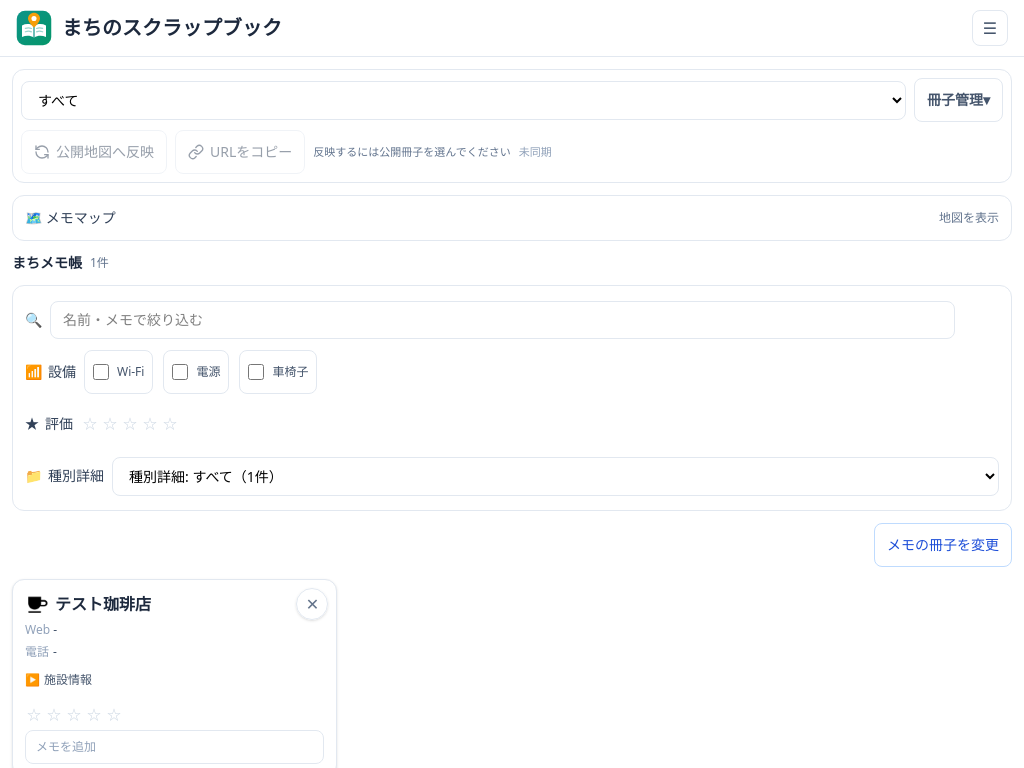
ヘッダーメニュー全消去 → メモ帳タブ即座に0件 › 2段階確認で実行すると、MemochoSection が空状態を表示し localStorage も空になる
Expected: the heading "テスト珈琲店" is shown, [55,592,151,616]
// ヘッダーメニューを開き、2段階削除を実行
Click the button named "メニュー": click(990, 28) [972,10,1008,46]
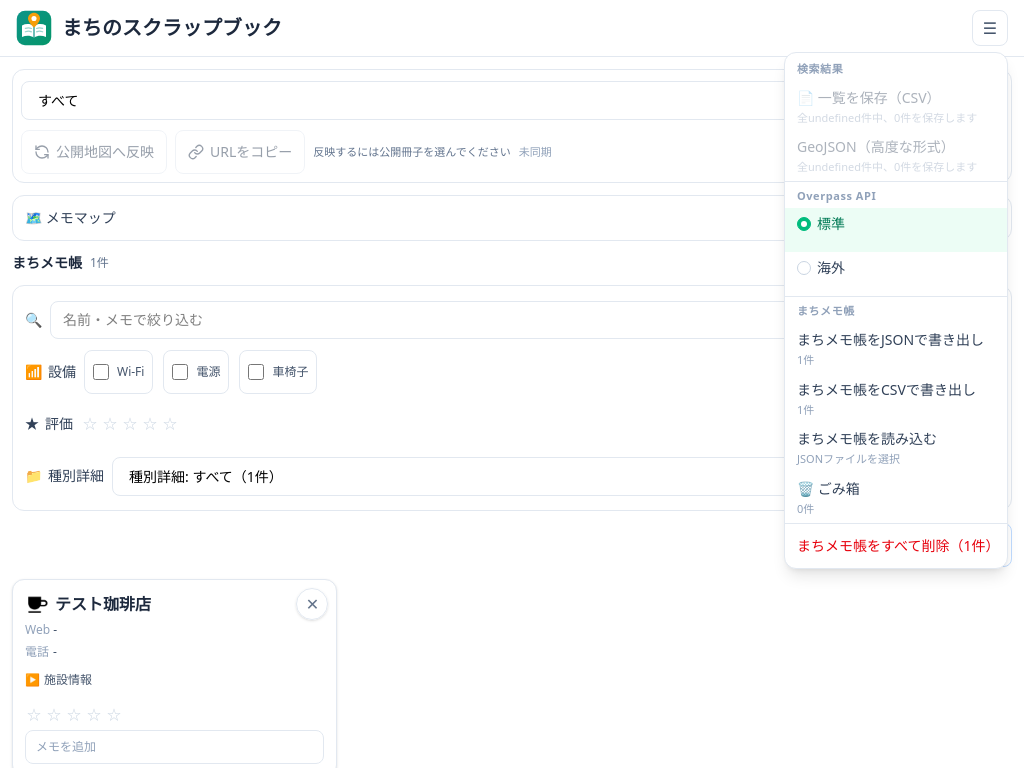
Click the menu item "まちメモ帳をすべて削除（1件）": click(896, 546) [785,524,1007,568]
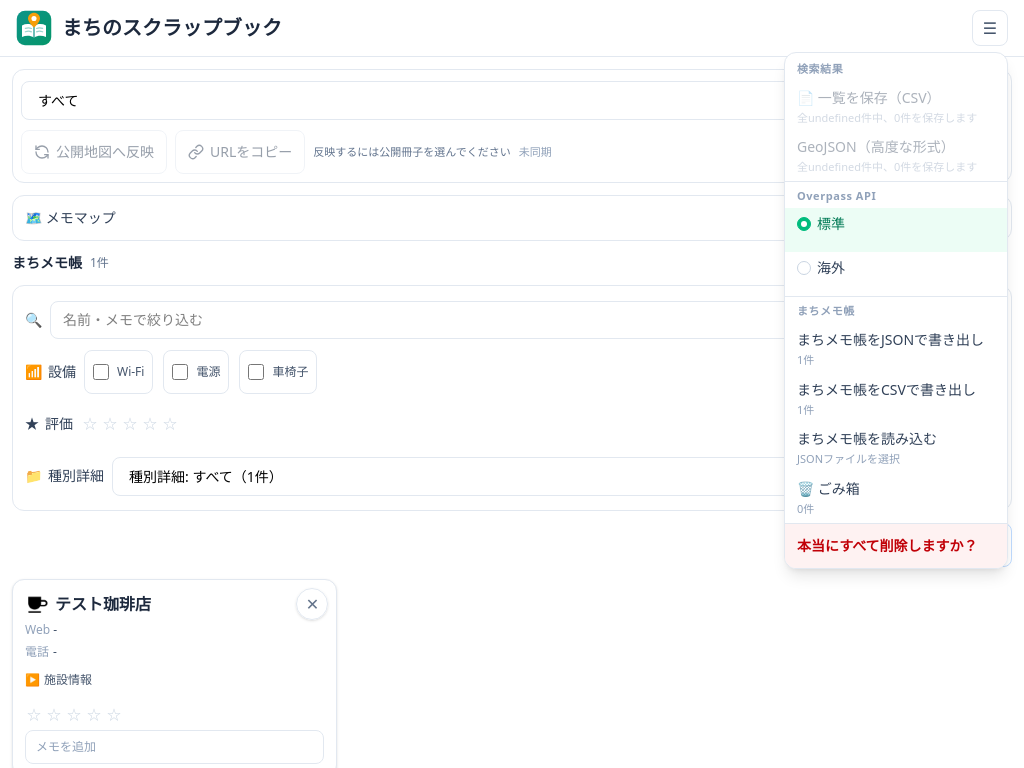
Click the menu item "本当にすべて削除しますか？": click(896, 546) [785,524,1007,568]
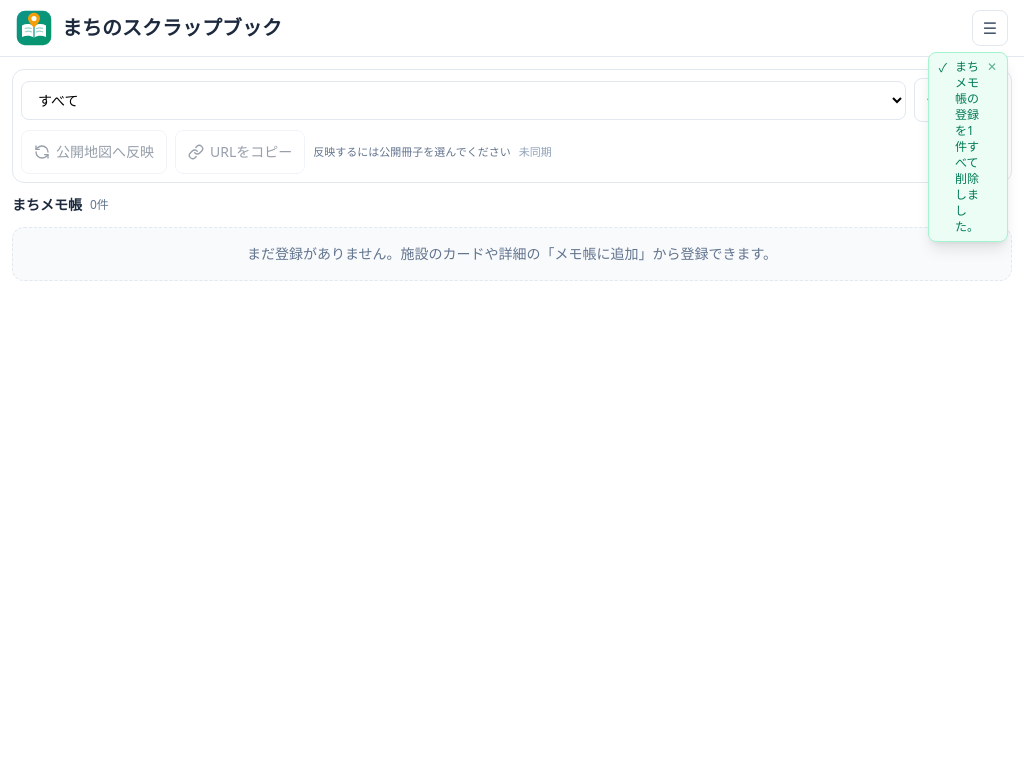
Expected: the text "まだ登録がありません。施設のカードや詳細の「メモ帳に追加」から登録できます。" is shown, [12,227,1012,281]
Expected: the heading "テスト珈琲店" is gone
